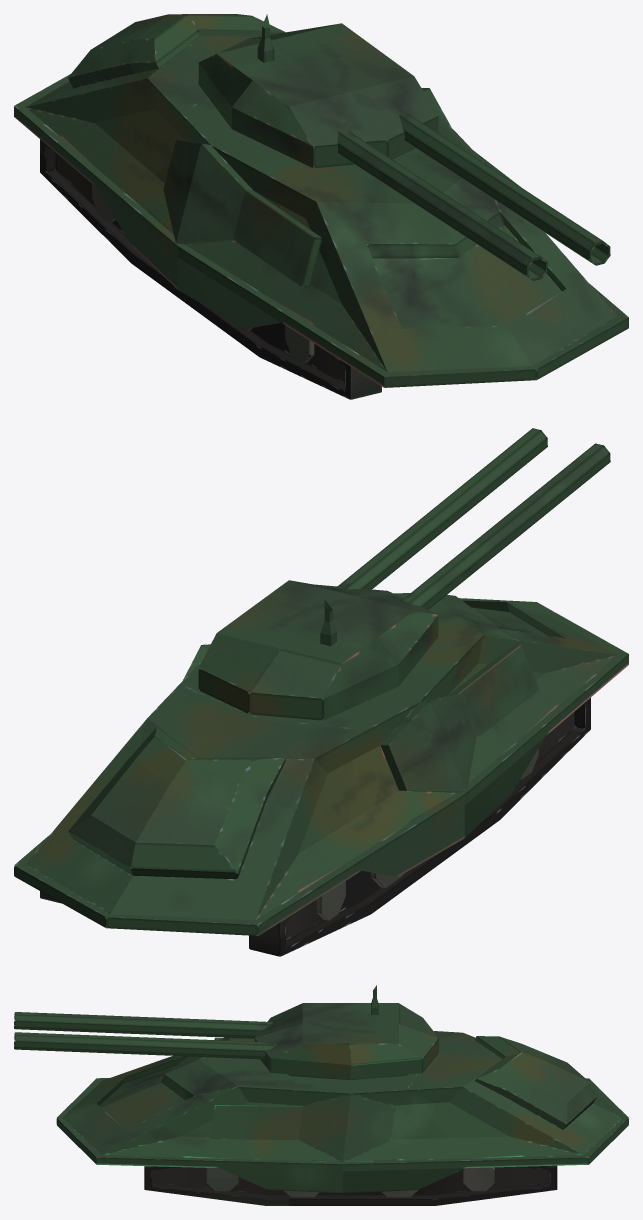
File: tank.fbx
3 views of the same model, one above another, from view 1: azimuth 30°, elevation 25°; view 2: azimuth 150°, elevation 25°; view 3: azimuth 270°, elevation 25° (orthographic). The views are drawn at different scales.
Parts seen in each view (by area): view 1: cuboid, cuboid_1, cylinder, tube_1, tube, cylinder_2; view 2: cuboid, cuboid_1, cylinder, tube_1, tube, cylinder_3; view 3: cuboid, cuboid_1, cylinder_1, tube, tube_1, cylinder_3, cylinder_2.
Boxes of the visible parts, x1=… form: cuboid: x1=14, y1=14, x2=628, y2=387; cuboid_1: x1=198, y1=14, x2=438, y2=168; cylinder: x1=40, y1=139, x2=381, y2=399; tube_1: x1=337, y1=131, x2=547, y2=280; tube: x1=399, y1=112, x2=610, y2=265; cylinder_2: x1=285, y1=325, x2=314, y2=363; cuboid: x1=14, y1=593, x2=628, y2=935; cuboid_1: x1=198, y1=580, x2=438, y2=720; cylinder: x1=249, y1=698, x2=590, y2=956; tube_1: x1=403, y1=443, x2=610, y2=609; tube: x1=335, y1=428, x2=547, y2=589; cylinder_3: x1=316, y1=881, x2=345, y2=920; cuboid: x1=56, y1=1031, x2=628, y2=1193; cuboid_1: x1=254, y1=985, x2=438, y2=1079; cylinder_1: x1=144, y1=1165, x2=557, y2=1205; tube: x1=14, y1=1032, x2=277, y2=1059; tube_1: x1=14, y1=1012, x2=272, y2=1038; cylinder_3: x1=463, y1=1167, x2=494, y2=1191; cylinder_2: x1=206, y1=1168, x2=238, y2=1191.
Bounding box in the file's own units: 174 × 148 × 480.
1 material, 1 textured.
